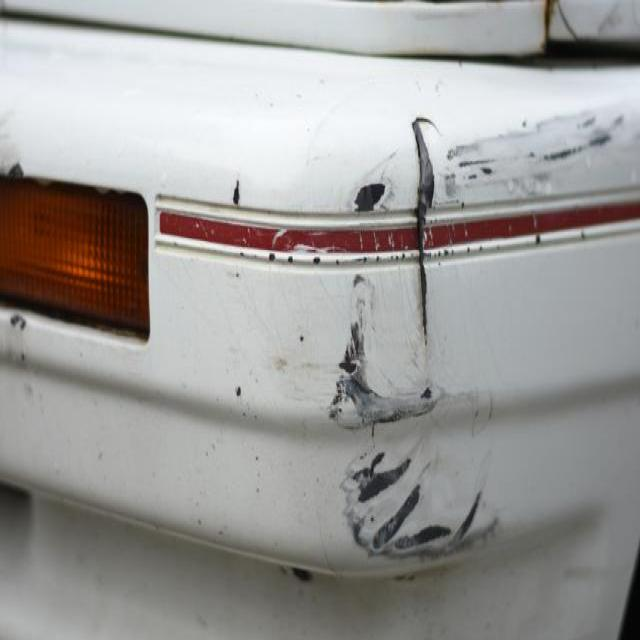Dent: (316, 100, 635, 427), (0, 449, 381, 580), (213, 244, 357, 419), (0, 286, 146, 357), (430, 436, 496, 550), (348, 146, 404, 208), (535, 125, 618, 163), (178, 205, 238, 244), (270, 356, 338, 386), (552, 0, 576, 39), (597, 2, 626, 33), (563, 562, 603, 578), (290, 242, 326, 255), (456, 155, 496, 166), (288, 564, 312, 580), (442, 172, 456, 197), (6, 161, 24, 178), (588, 130, 611, 143), (272, 227, 287, 244), (8, 314, 25, 328), (22, 381, 34, 398), (93, 185, 109, 196), (232, 178, 239, 202), (419, 384, 430, 399), (387, 230, 396, 247), (480, 164, 493, 173), (532, 214, 538, 232), (445, 148, 453, 158), (193, 218, 200, 229), (533, 232, 540, 242), (268, 250, 275, 260), (235, 386, 241, 396), (580, 229, 586, 238), (20, 352, 25, 362), (312, 256, 320, 262), (298, 334, 303, 342), (521, 117, 526, 125), (286, 254, 292, 260), (238, 248, 243, 254), (400, 252, 405, 258), (374, 254, 379, 260), (460, 199, 464, 206), (334, 258, 338, 265), (234, 271, 238, 277), (362, 256, 366, 262), (171, 240, 175, 246), (466, 246, 470, 252), (478, 244, 482, 250)
